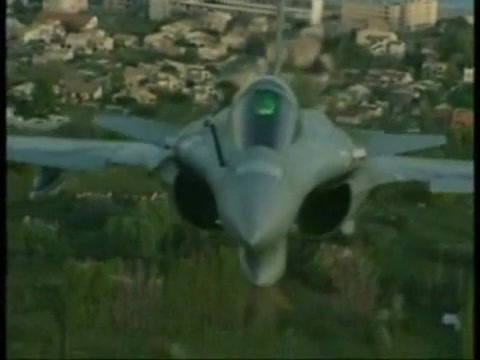aeroplane: (7, 1, 478, 285)
